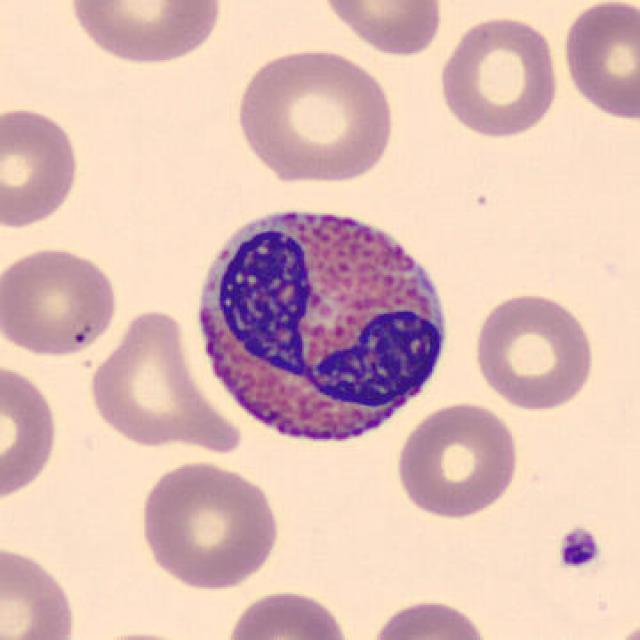Eosinophil: (185, 183, 459, 462)
Platelets: (553, 522, 604, 573)
RBC: (231, 42, 398, 187), (84, 305, 238, 453), (135, 457, 285, 592), (434, 12, 564, 141), (391, 398, 523, 522), (470, 289, 598, 413), (0, 243, 123, 360), (0, 102, 84, 233), (64, 0, 226, 67), (558, 0, 638, 122), (0, 358, 62, 506), (0, 539, 80, 640), (315, 0, 446, 58), (220, 585, 358, 640), (364, 594, 494, 640), (78, 627, 208, 640), (603, 615, 638, 640)
